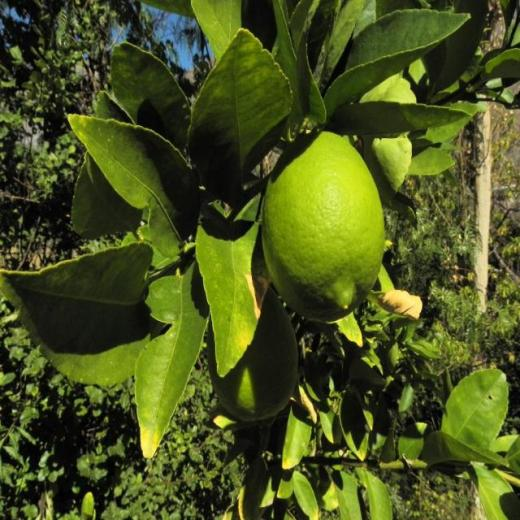Grape: (258, 130, 386, 324)
